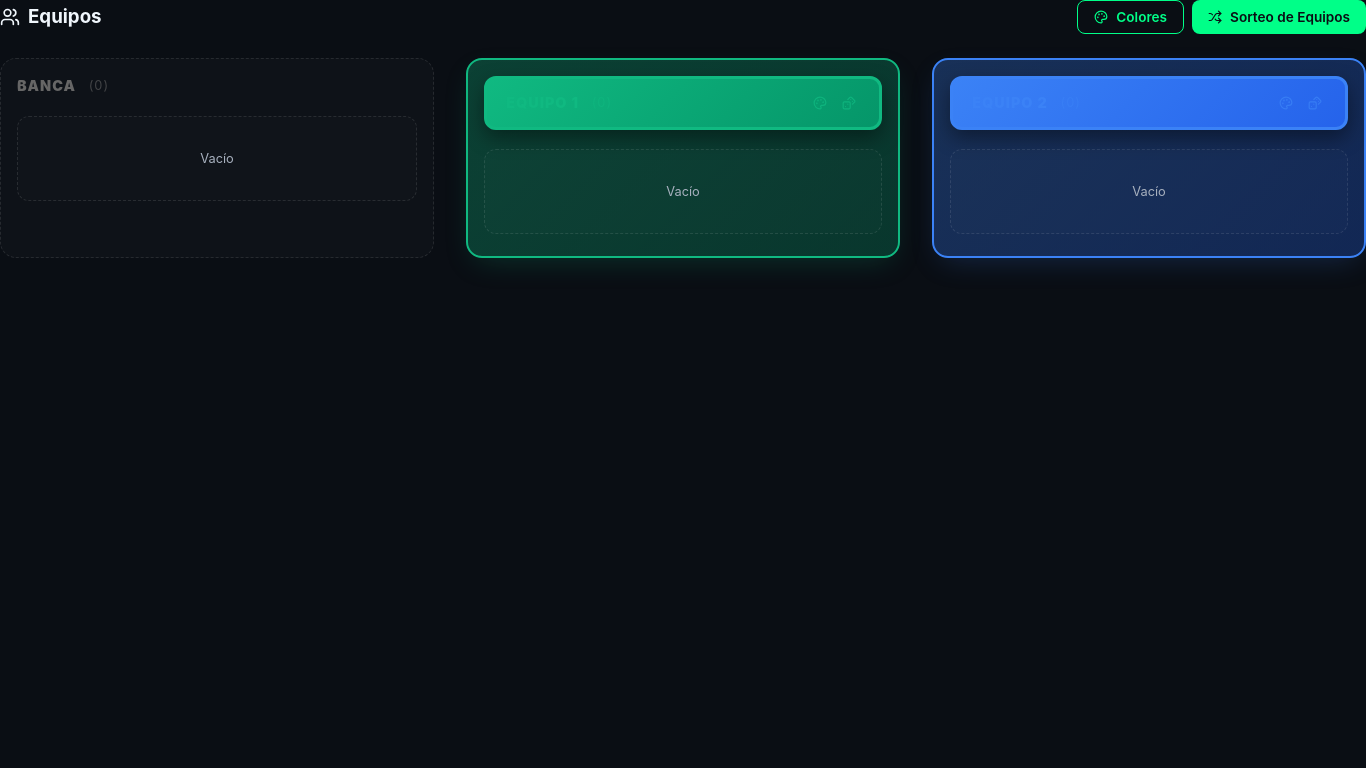
Test: FieldTab › Shuffle Confirmation › shows confirmation modal when clicking shuffle
The width and height of the screenshot is (1366, 768).
Click the button "Sorteo de Equipos" at [1279, 17], box [1192, 0, 1365, 34]
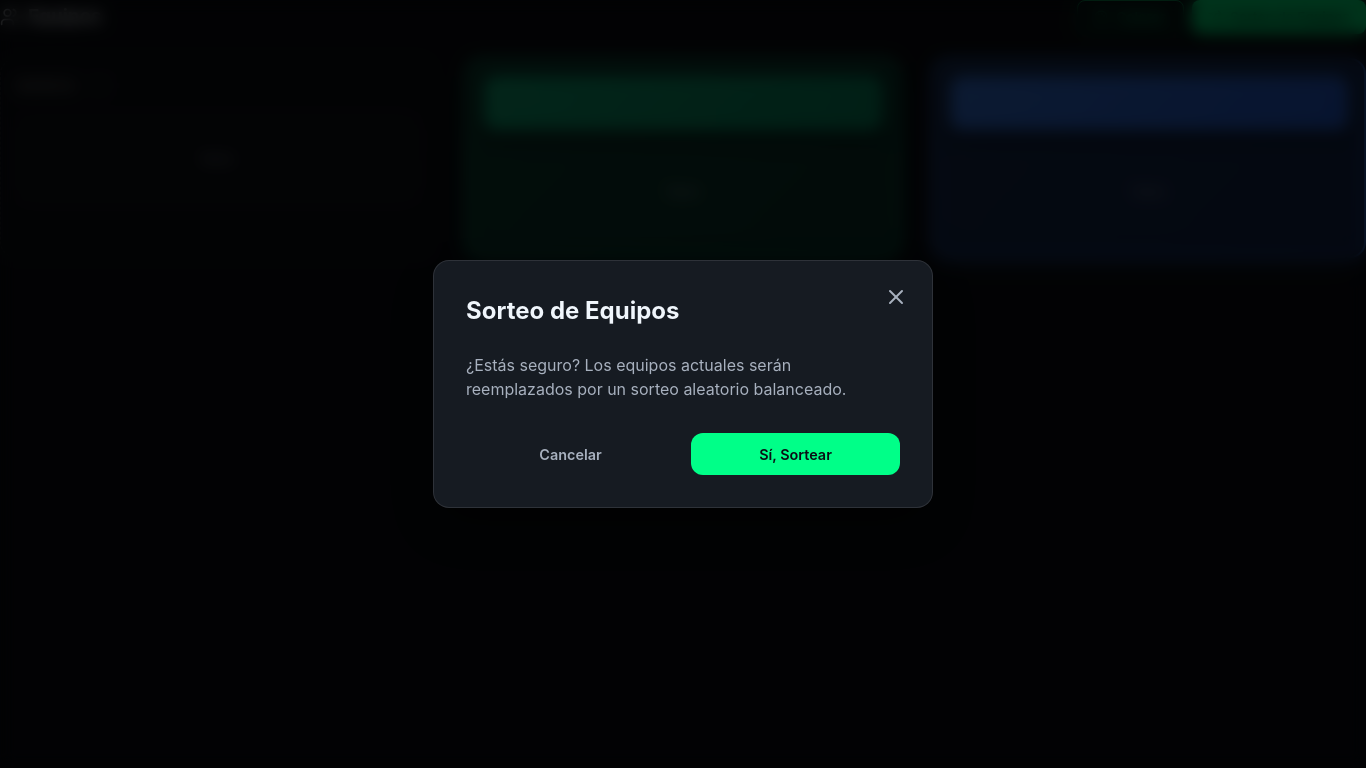
expect the text "Los equipos actuales serán reemplazados" is shown: met, box [466, 355, 846, 399]
